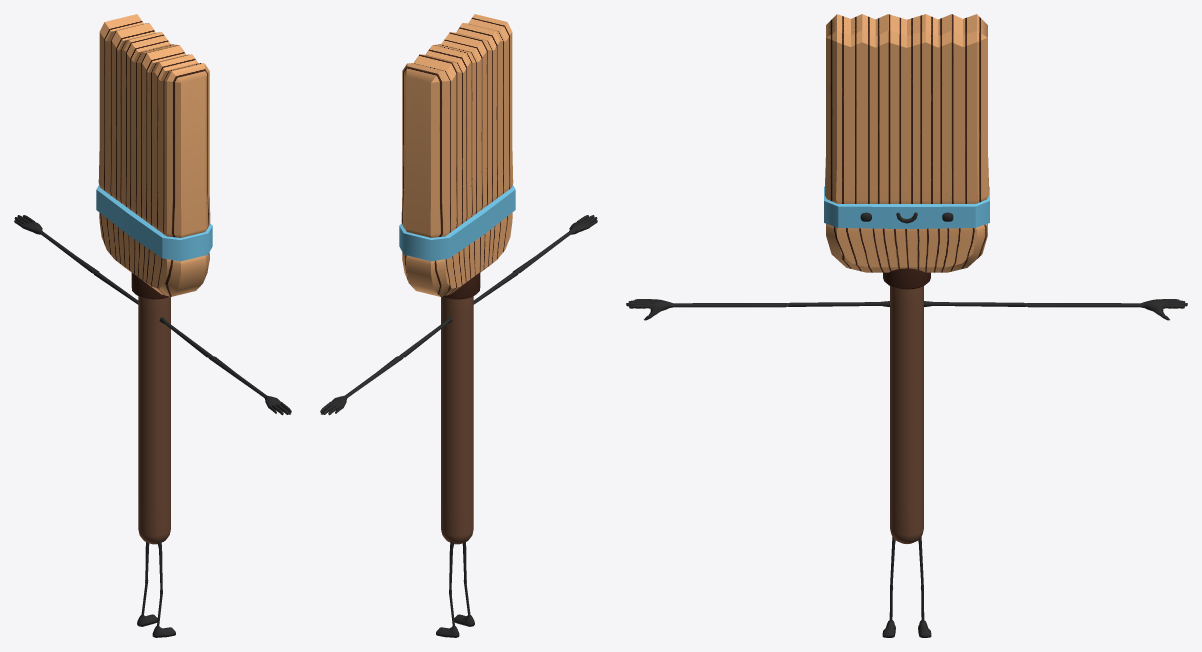
The picture shows the model from 3 angles, left to right: view 1: azimuth 30°, elevation 25°; view 2: azimuth 150°, elevation 25°; view 3: azimuth 270°, elevation 25°; orthographic projection. The views are drawn at different scales.
Parts seen in each view (by area): view 1: _100Avatars_166_CoolBroom; view 2: _100Avatars_166_CoolBroom; view 3: _100Avatars_166_CoolBroom.
Part boxes in pixels (<box>): _100Avatars_166_CoolBroom: <box>14,14,291,637</box>; _100Avatars_166_CoolBroom: <box>320,14,597,637</box>; _100Avatars_166_CoolBroom: <box>626,14,1187,637</box>.
Bounding box in the file's own units: 0.6236 × 6.38 × 5.33.
Materials: 1 (1 with a texture image).
